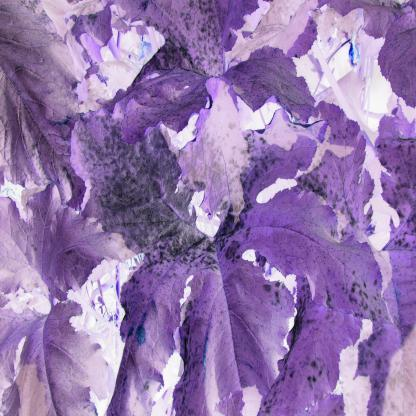Squash Powdery mildew leaf: (64, 102, 390, 416), (2, 0, 102, 196), (106, 0, 262, 72), (223, 43, 329, 128), (106, 64, 214, 136)
